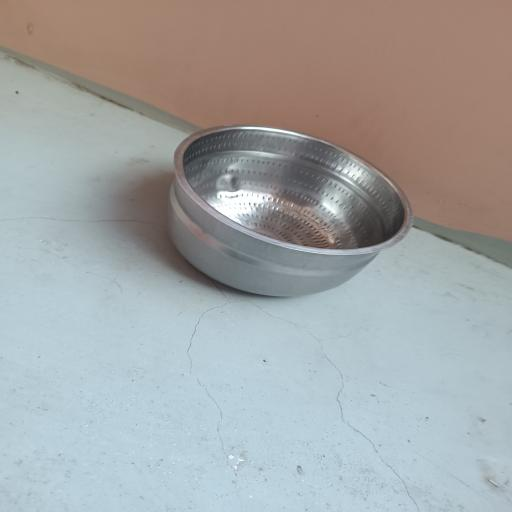vessel: (167, 126, 413, 296)
